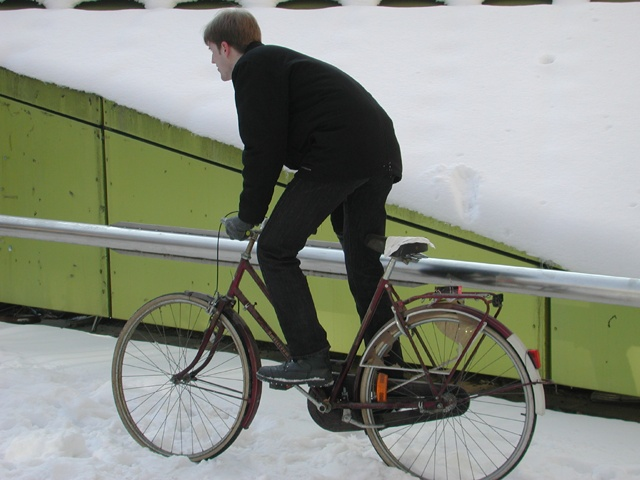person: (195, 12, 410, 424)
